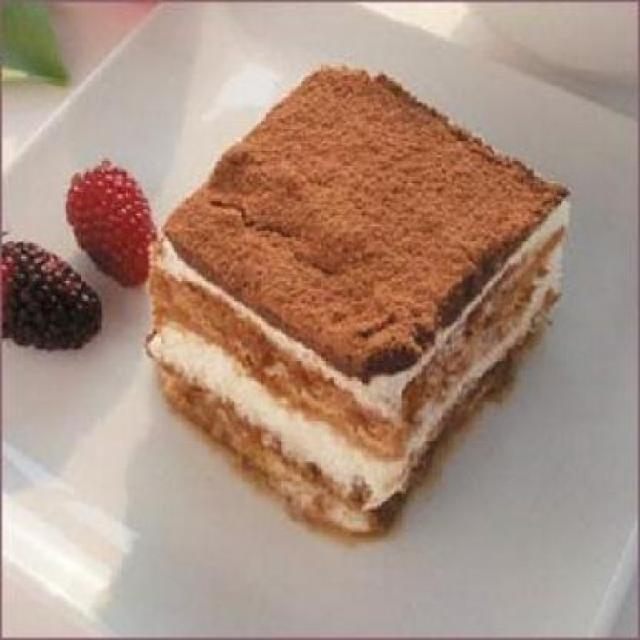Tiramisu: (143, 67, 574, 540)
